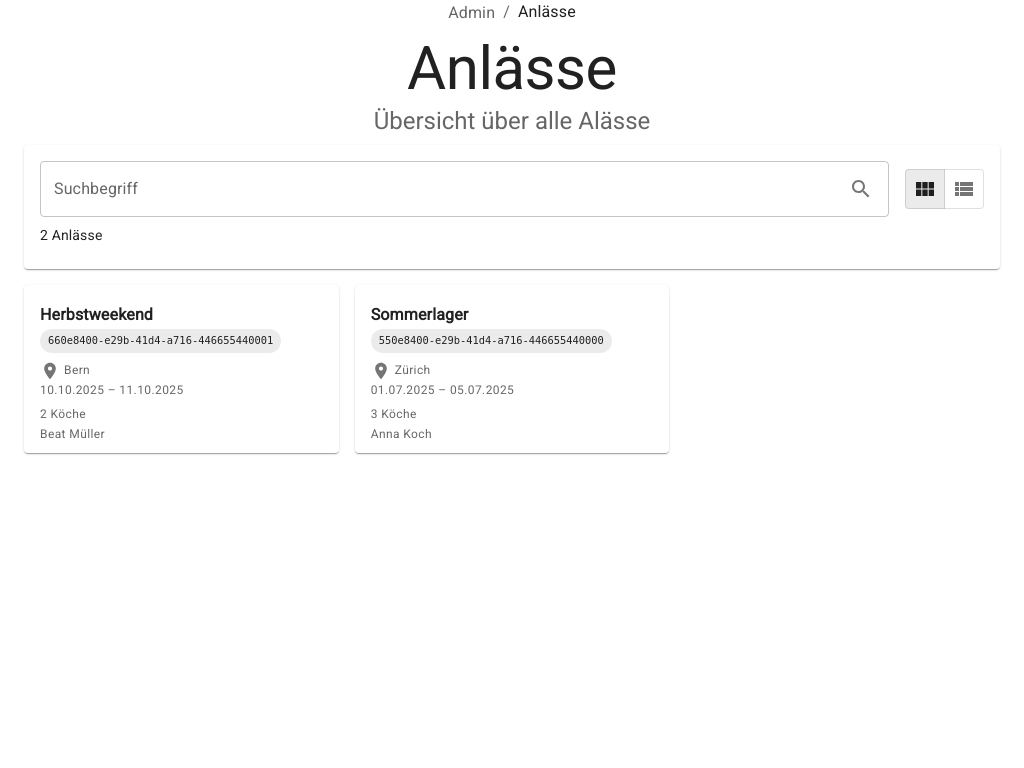
Scenario: 5 – Klick auf Karte öffnet Detail-Dialog mit Metadaten
This screenshot has width=1024, height=768.
Click the heading "Sommerlager": click(420, 315) [371,305,468,324]
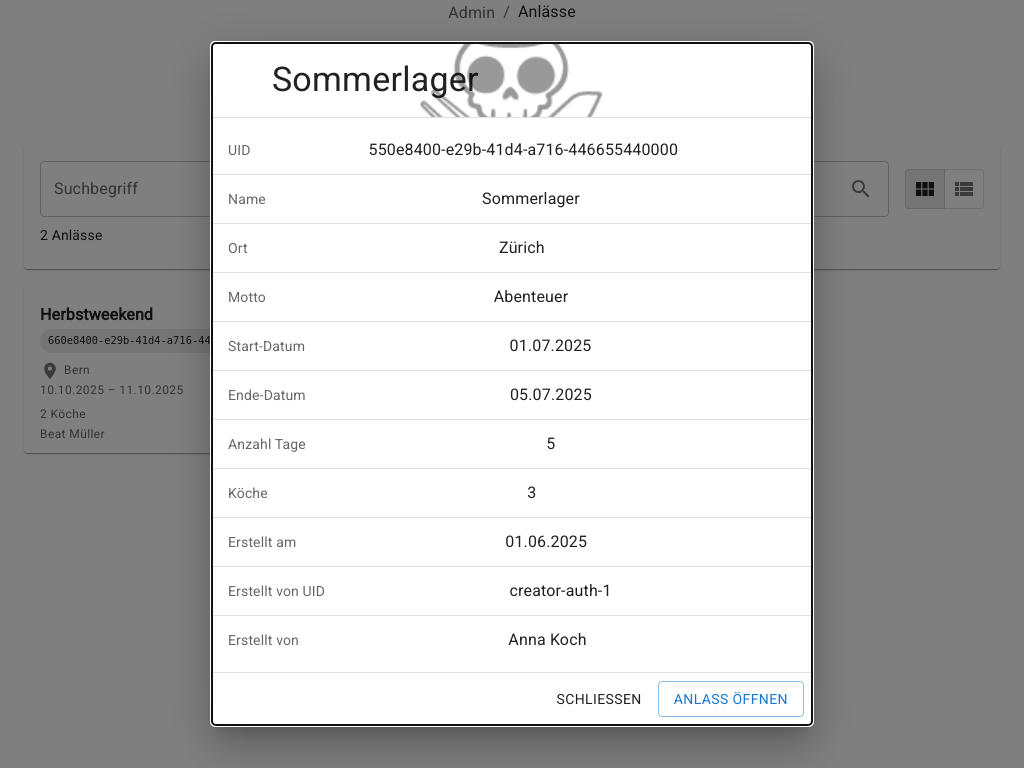
Now the dialog is shown, box [212,43,812,725]
Now the text "550e8400-e29b-41d4-a716-446655440000" is shown, box [368,140,678,159]
Now the text "Zürich" is shown, box [499,238,545,257]
